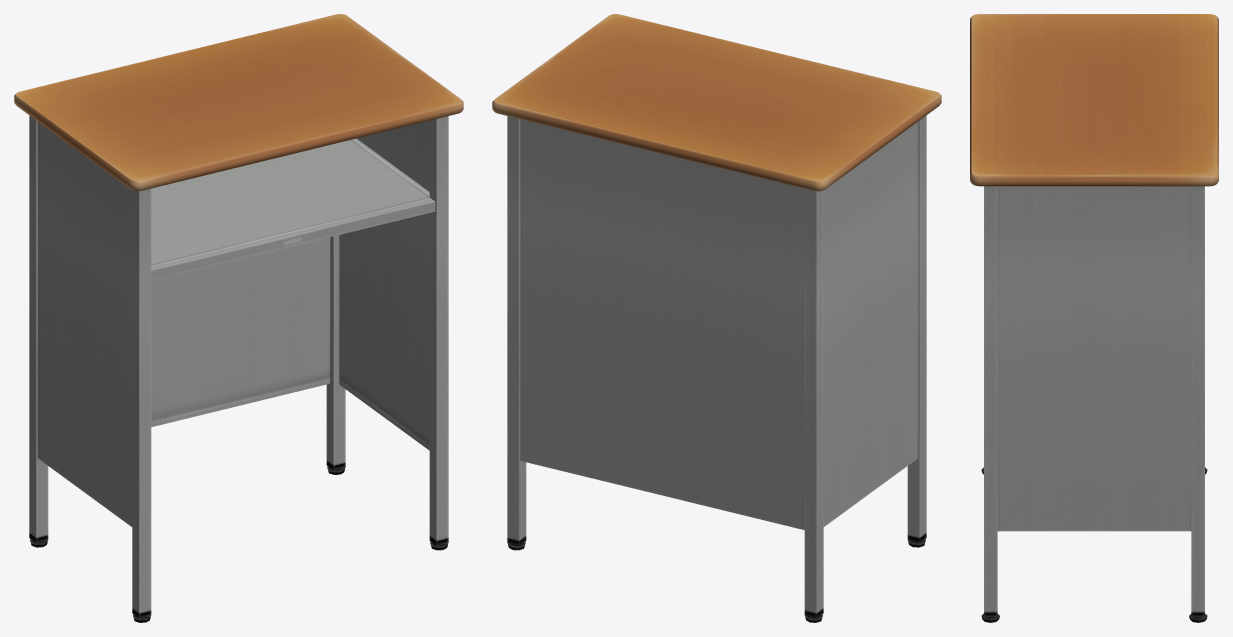
The model's file is Teachers_desk_01_01.fbx.
The picture shows the model from 3 angles, left to right: view 1: azimuth 30°, elevation 25°; view 2: azimuth 150°, elevation 25°; view 3: azimuth 270°, elevation 25°; orthographic projection.
Visible parts, largest first — view 1: teachers_desk_01_01; view 2: teachers_desk_01_01; view 3: teachers_desk_01_01.
Part boxes in pixels (left/top/right/bottom): teachers_desk_01_01: left=14, top=14, right=463, bottom=622; teachers_desk_01_01: left=492, top=14, right=941, bottom=622; teachers_desk_01_01: left=970, top=14, right=1218, bottom=622.
Size of the model in its own units: 70 by 90 by 45.
